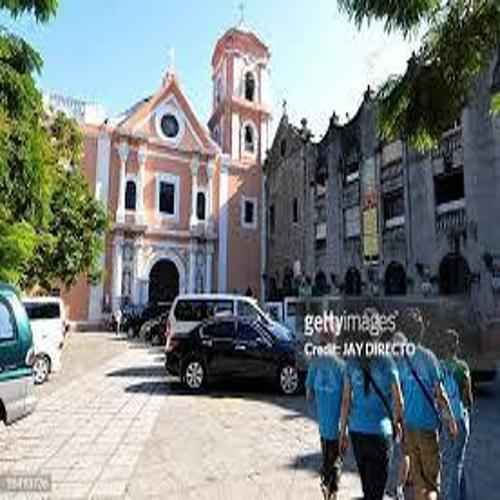San Agustin Church: (90, 2, 283, 358)
